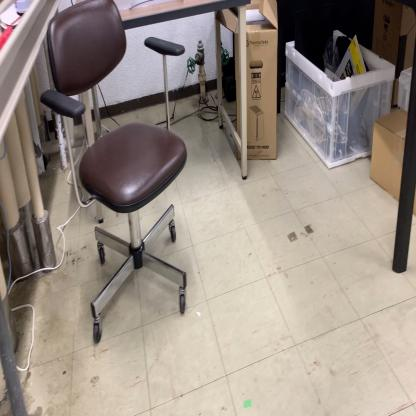chair: (38, 0, 191, 347)
